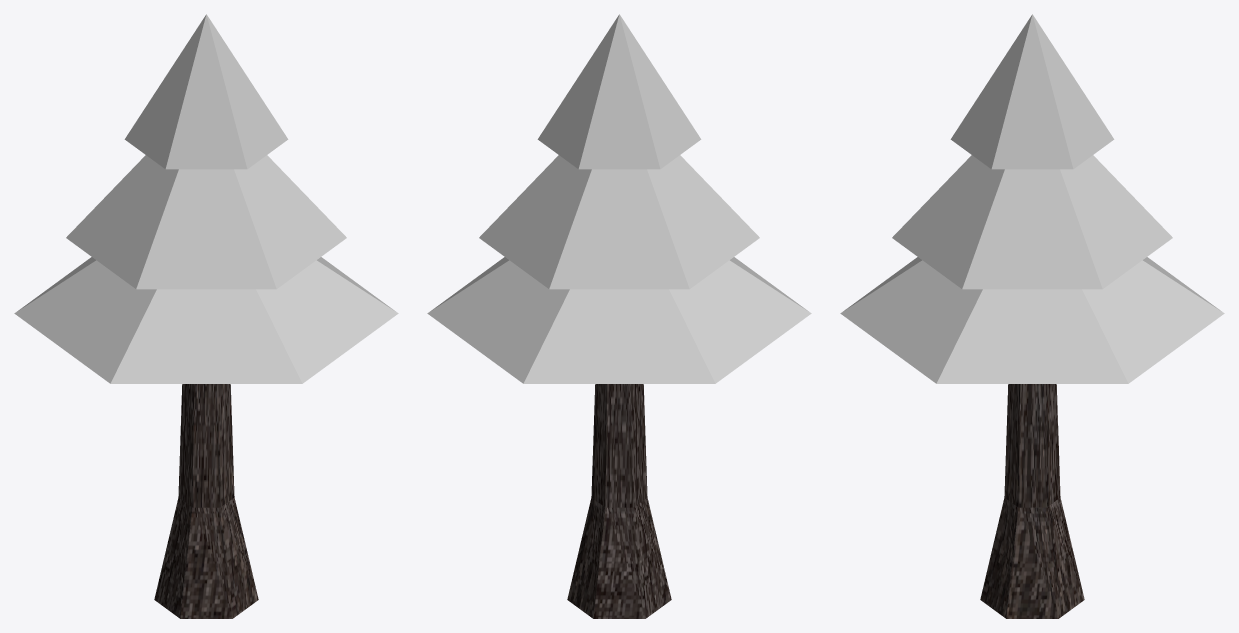
The model's file is tree5.fbx.
The picture shows the model from 3 angles, left to right: view 1: azimuth 30°, elevation 25°; view 2: azimuth 150°, elevation 25°; view 3: azimuth 270°, elevation 25°; orthographic projection.
Visible parts, largest first — view 1: feuillage, tronc; view 2: feuillage, tronc; view 3: feuillage, tronc.
Boxes of the visible parts, left/top/right/bottom form: feuillage: left=14, top=14, right=398, bottom=383; tronc: left=154, top=384, right=258, bottom=618; feuillage: left=427, top=14, right=811, bottom=383; tronc: left=567, top=384, right=671, bottom=618; feuillage: left=840, top=14, right=1224, bottom=383; tronc: left=980, top=384, right=1084, bottom=618.
Size of the model in its own units: 1153 by 2240 by 1332.
